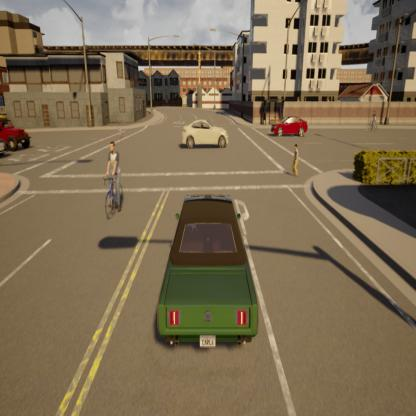Cars: (157, 194, 260, 351), (103, 136, 126, 223), (182, 118, 229, 151), (0, 112, 32, 150), (272, 114, 310, 135), (366, 107, 379, 134)
Pedestrian: (292, 141, 300, 179)
